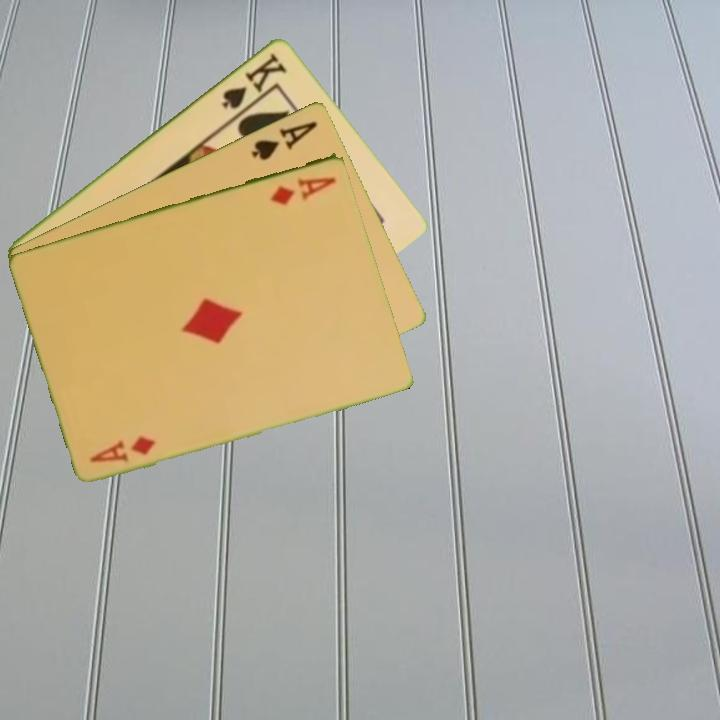Ad: (267, 173, 340, 207), (86, 432, 159, 465)
As: (247, 117, 320, 163)
Ks: (218, 48, 290, 112)
